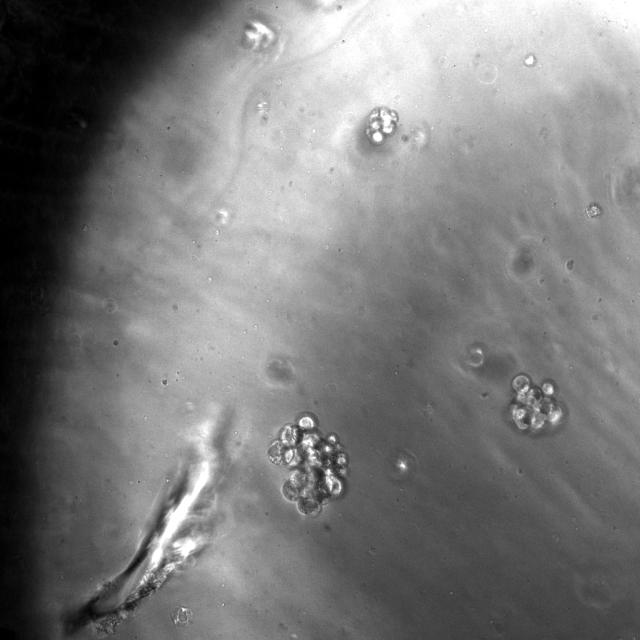organoid: (268, 413, 348, 514), (509, 373, 564, 433), (366, 106, 399, 146)
